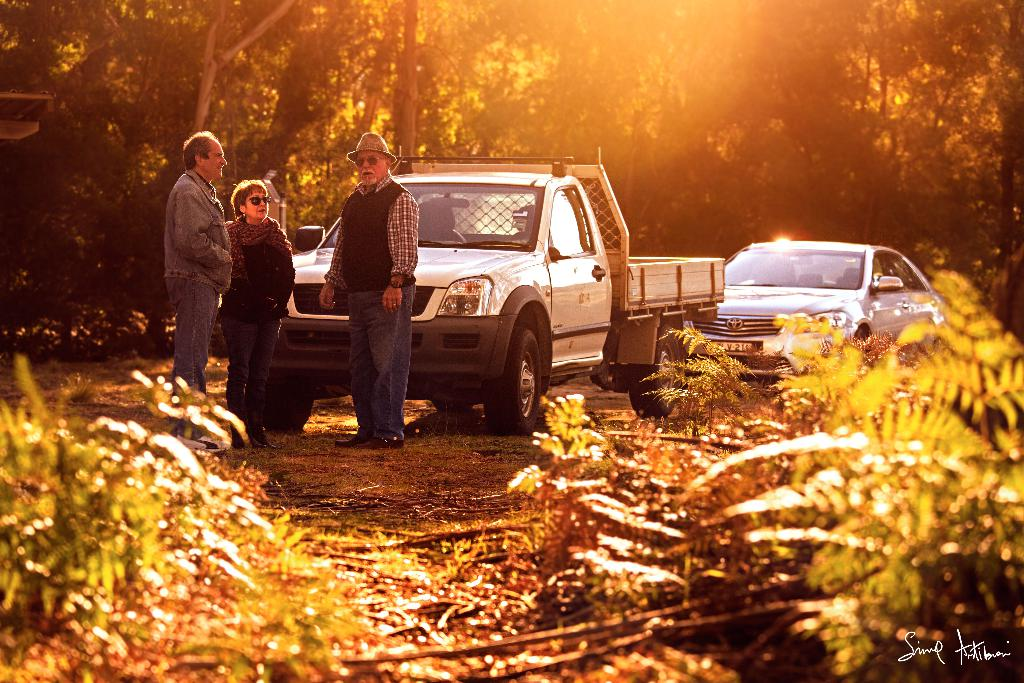Car: (684, 238, 945, 395)
